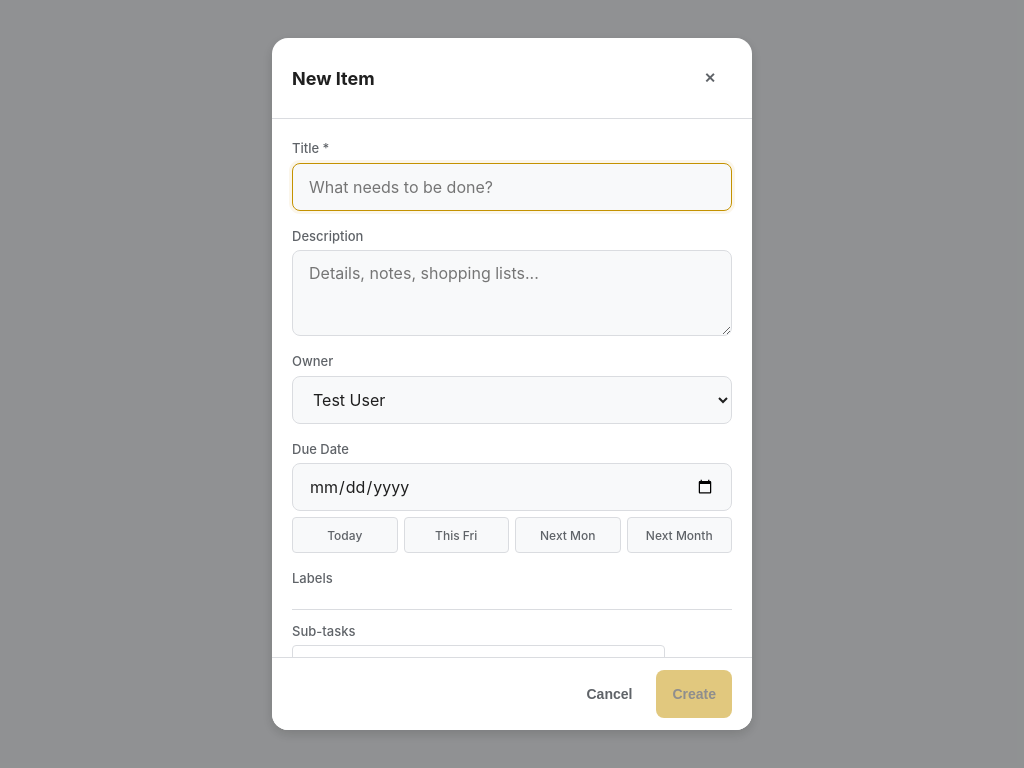
Scenario: CreateItemModal clear date button (Issue #207) › AC6: clear button appears after setting a date
This screenshot has width=1024, height=768.
Type "2026-04-10" into the date field with id "due-date". click: coordinates (512, 487)
box: x1=292 y1=463 x2=732 y2=511
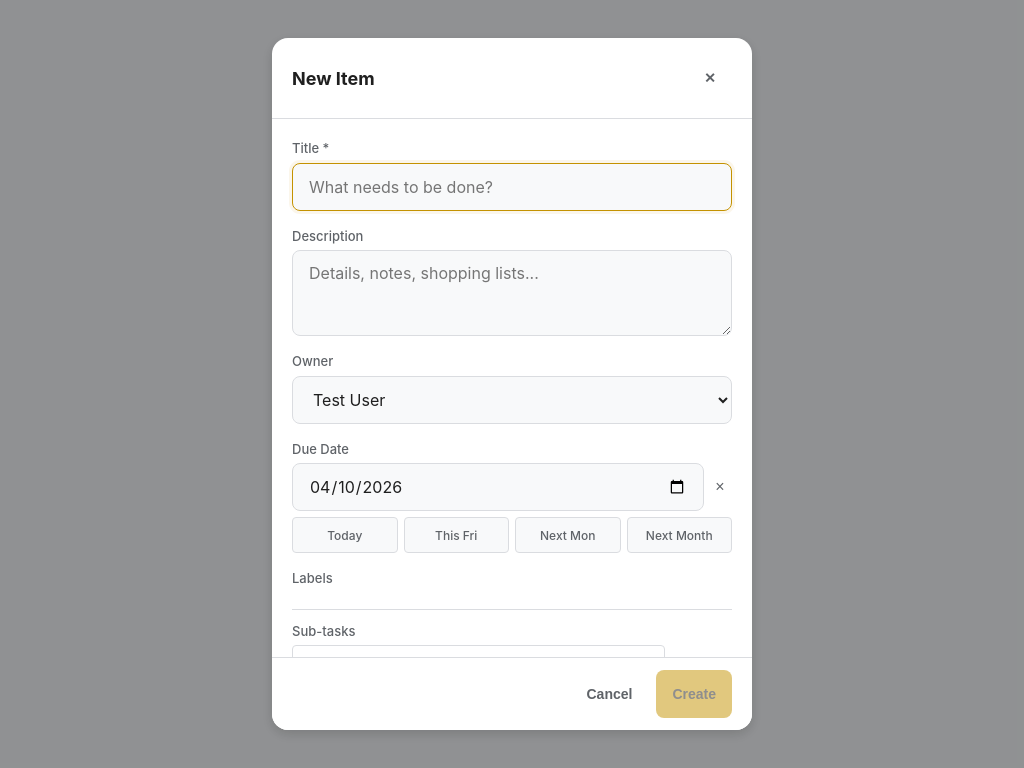
expect the button named "Clear due date" is shown: met, box x1=708 y1=475 x2=732 y2=499
